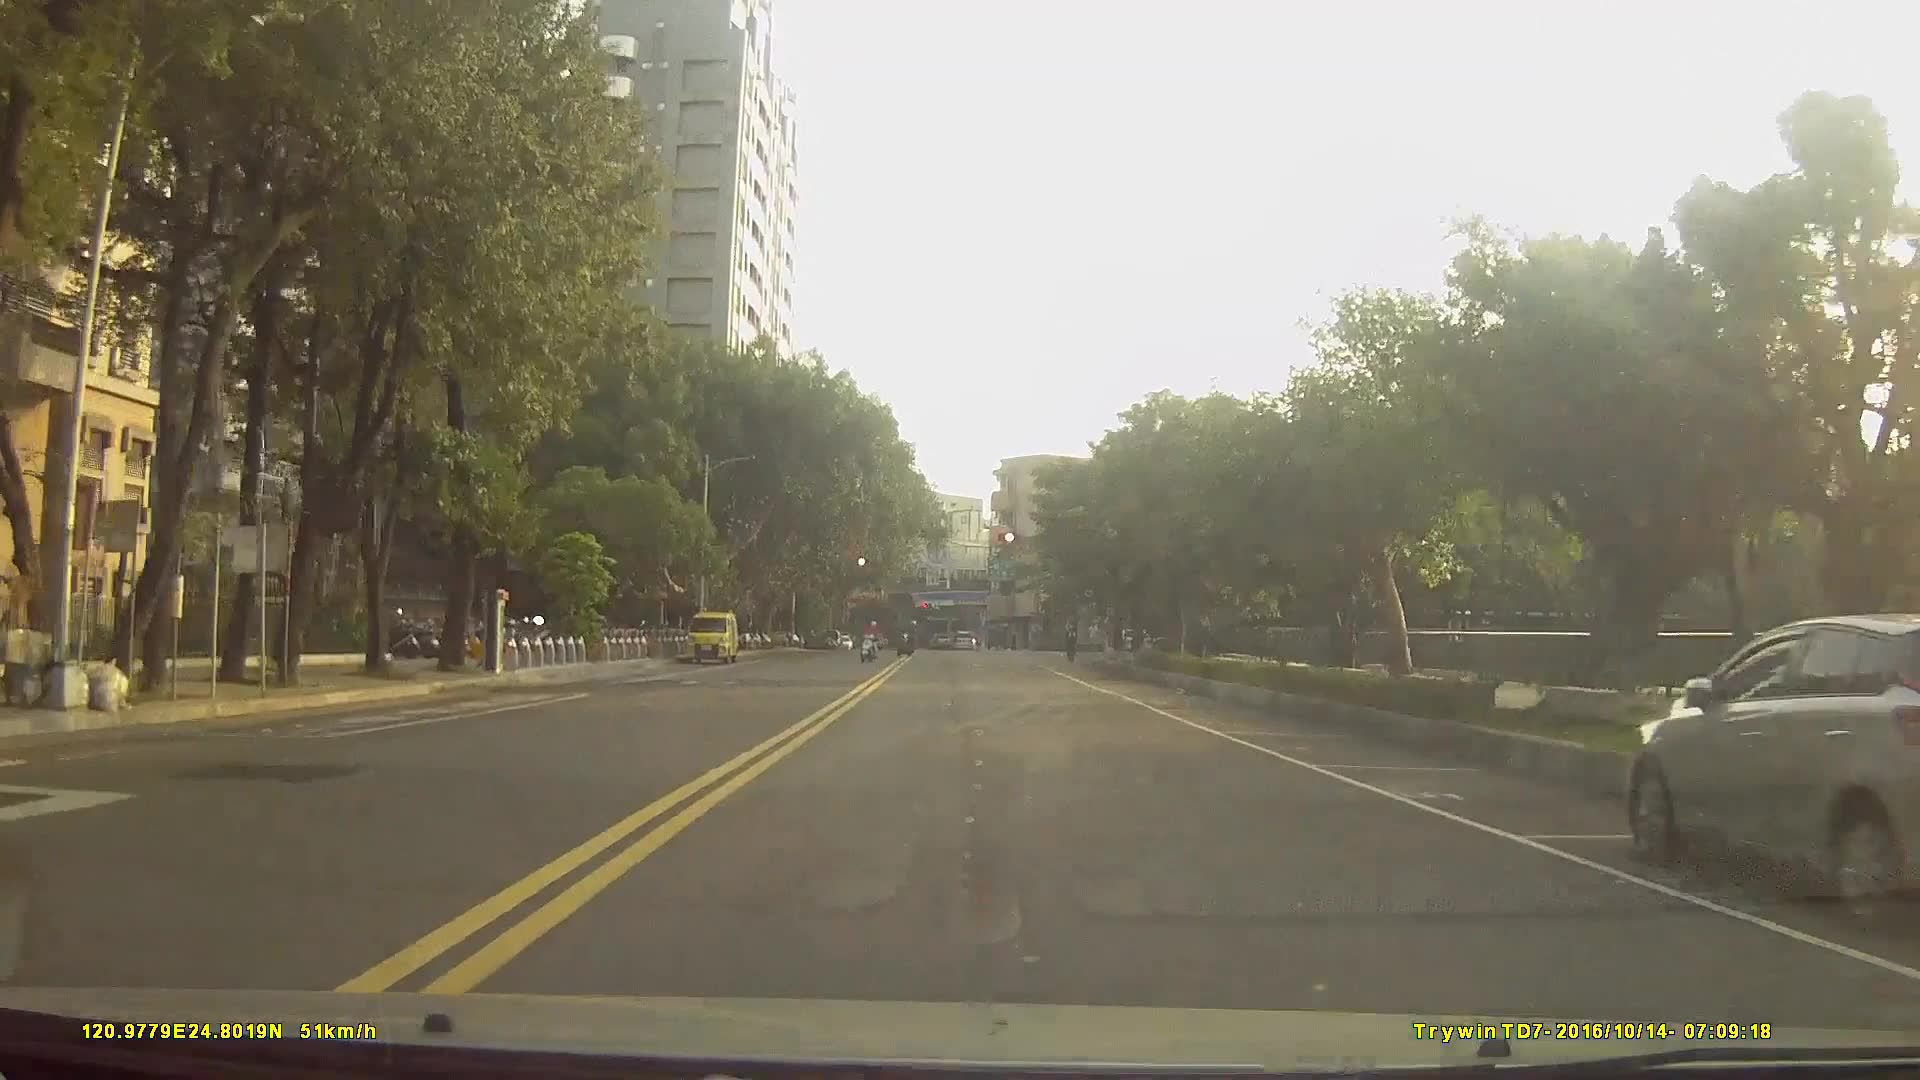pedestrian: (1086, 616, 1106, 657)
rider: (857, 616, 886, 665), (896, 618, 919, 659)
vehicle: (1627, 609, 1920, 933), (949, 627, 978, 651)
